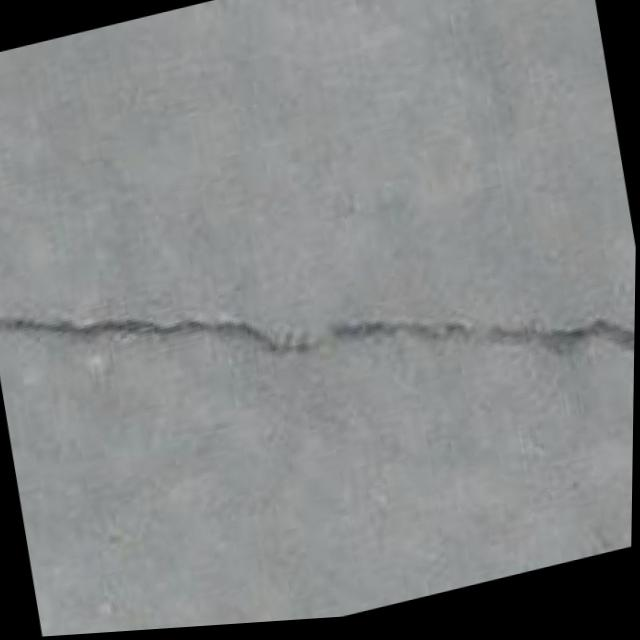Crack: (0, 163, 638, 528)
